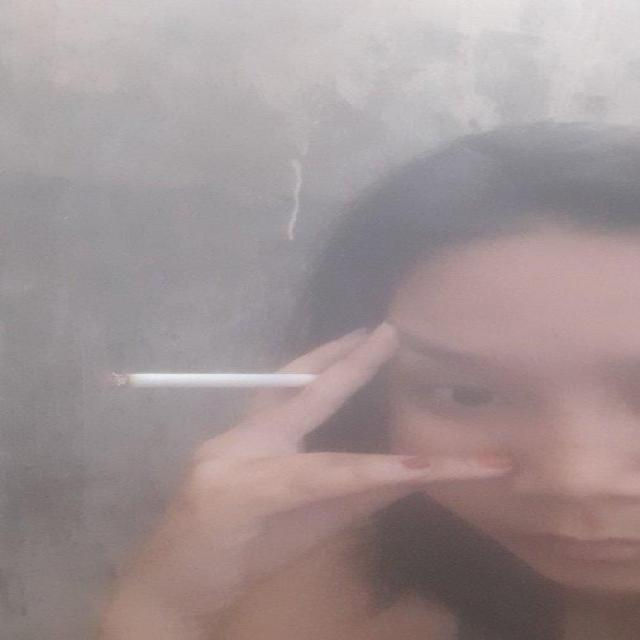rokok: (89, 358, 359, 404)
